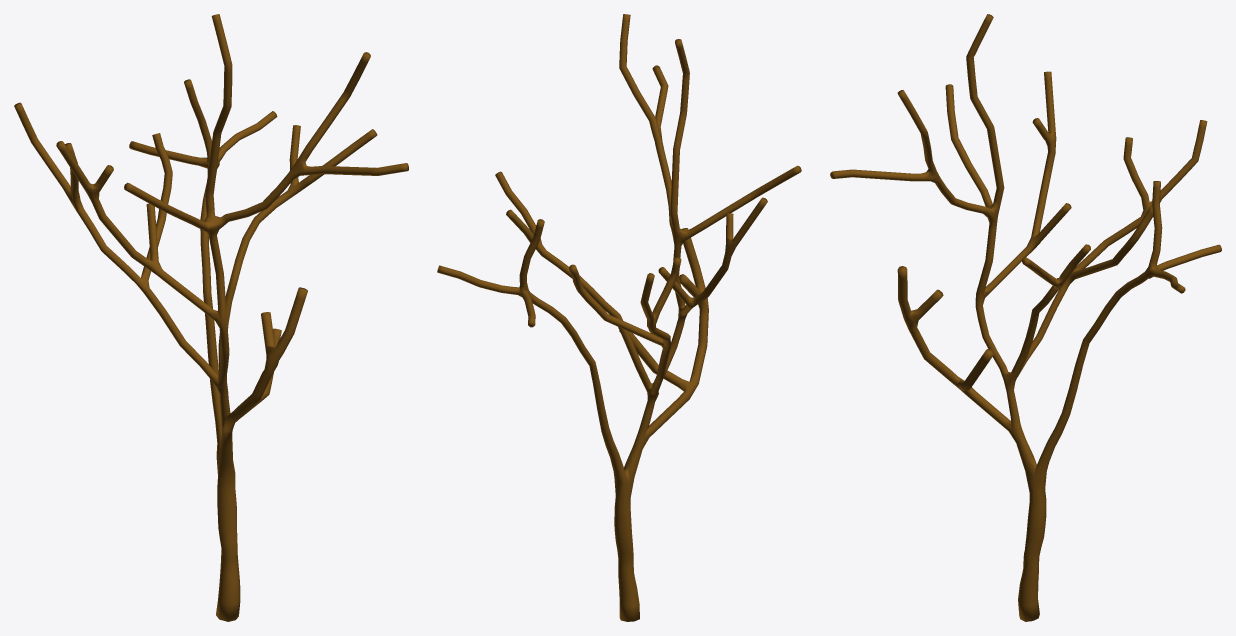
The model's file is TreeWood.fbx.
The picture shows the model from 3 angles, left to right: view 1: azimuth 30°, elevation 25°; view 2: azimuth 150°, elevation 25°; view 3: azimuth 270°, elevation 25°; orthographic projection. The views are drawn at different scales.
Parts seen in each view (by area): view 1: Cube; view 2: Cube; view 3: Cube.
Boxes of the visible parts, x1,y1,x2,y2 form: Cube: (14,14,408,621); Cube: (437,14,801,621); Cube: (830,14,1221,621).
Bounding box in the file's own units: 597 × 1159 × 700.
